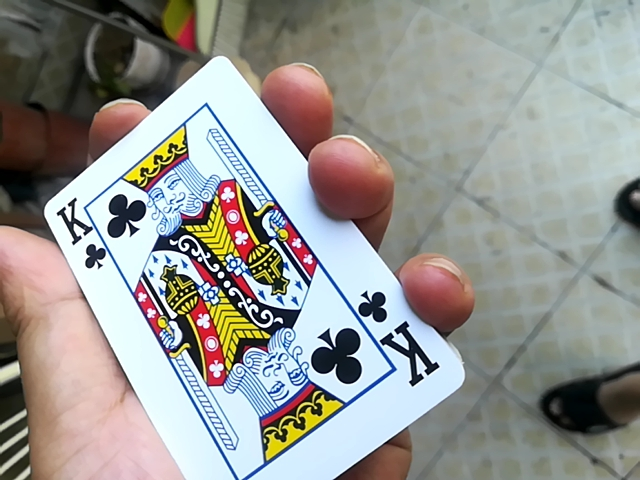mh k: (30, 45, 447, 480)
